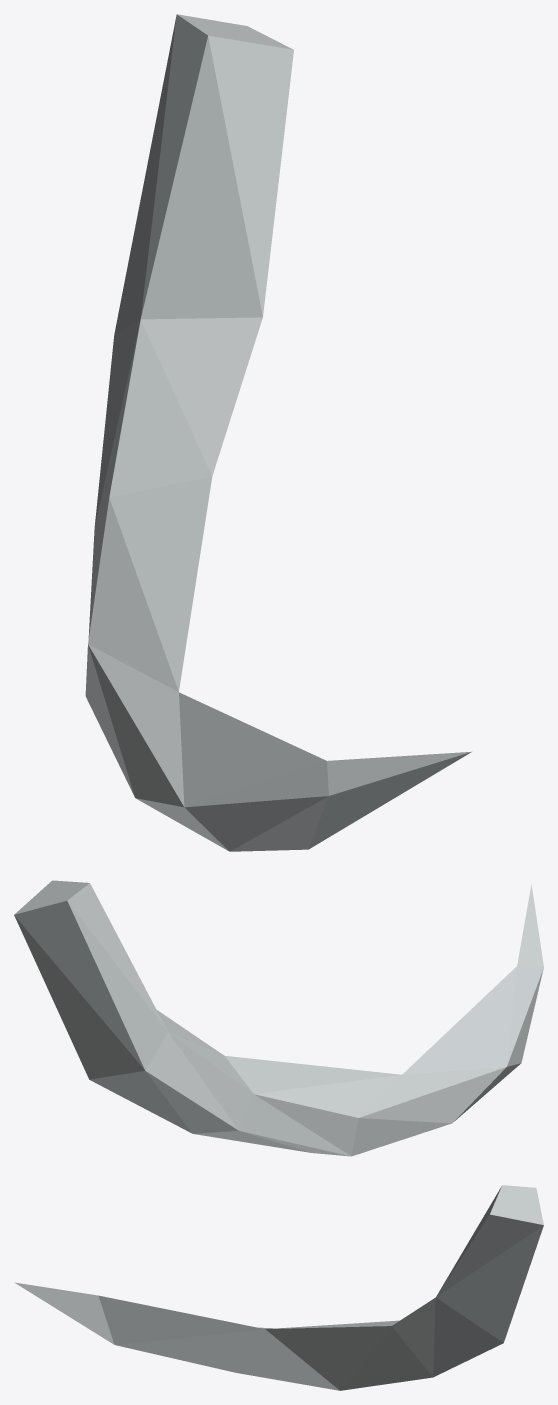
File: Horn2 (1).fbx
The picture shows the model from 3 angles, top to bottom: view 1: azimuth 30°, elevation 25°; view 2: azimuth 150°, elevation 25°; view 3: azimuth 270°, elevation 25°; orthographic projection. The views are drawn at different scales.
Parts seen in each view (by area): view 1: Mammoth.001; view 2: Mammoth.001; view 3: Mammoth.001.
Boxes of the visible parts, left/top/right/bottom form: Mammoth.001: left=85, top=14, right=471, bottom=851; Mammoth.001: left=14, top=880, right=543, bottom=1156; Mammoth.001: left=14, top=1185, right=543, bottom=1390.
Size of the model in its own units: 0.3036 by 0.3437 by 0.6494.
Materials: 1 (1 with a texture image).
